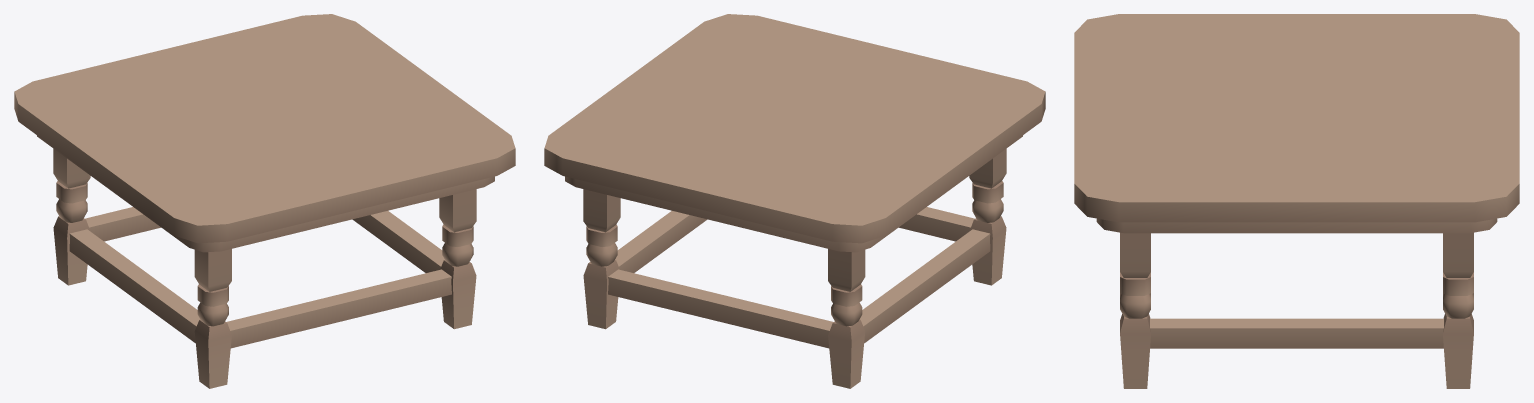
The model's file is table-crafted.glb.
The picture shows the model from 3 angles, left to right: view 1: azimuth 30°, elevation 25°; view 2: azimuth 150°, elevation 25°; view 3: azimuth 270°, elevation 25°; orthographic projection. The views are drawn at different scales.
Visible parts, largest first — view 1: table-crafted; view 2: table-crafted; view 3: table-crafted.
Part boxes in pixels (box(x1,y1,x2,y2)): table-crafted: box(14, 14, 515, 388); table-crafted: box(544, 14, 1045, 388); table-crafted: box(1074, 14, 1519, 388).
Bounding box in the file's own units: 1 × 0.5146 × 1.
